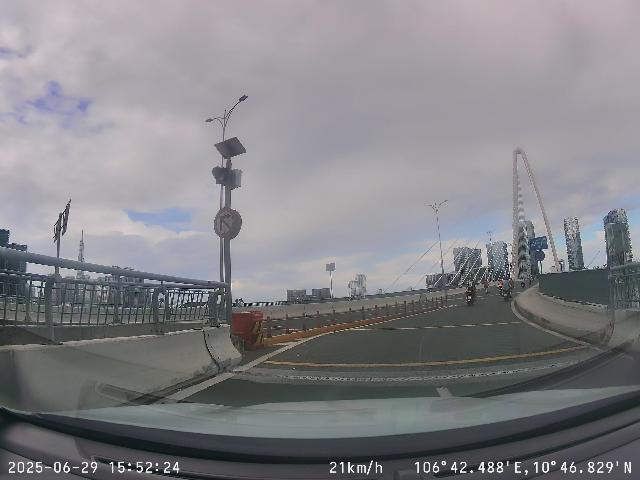123b-cam-re-phai: (214, 207, 235, 237)
